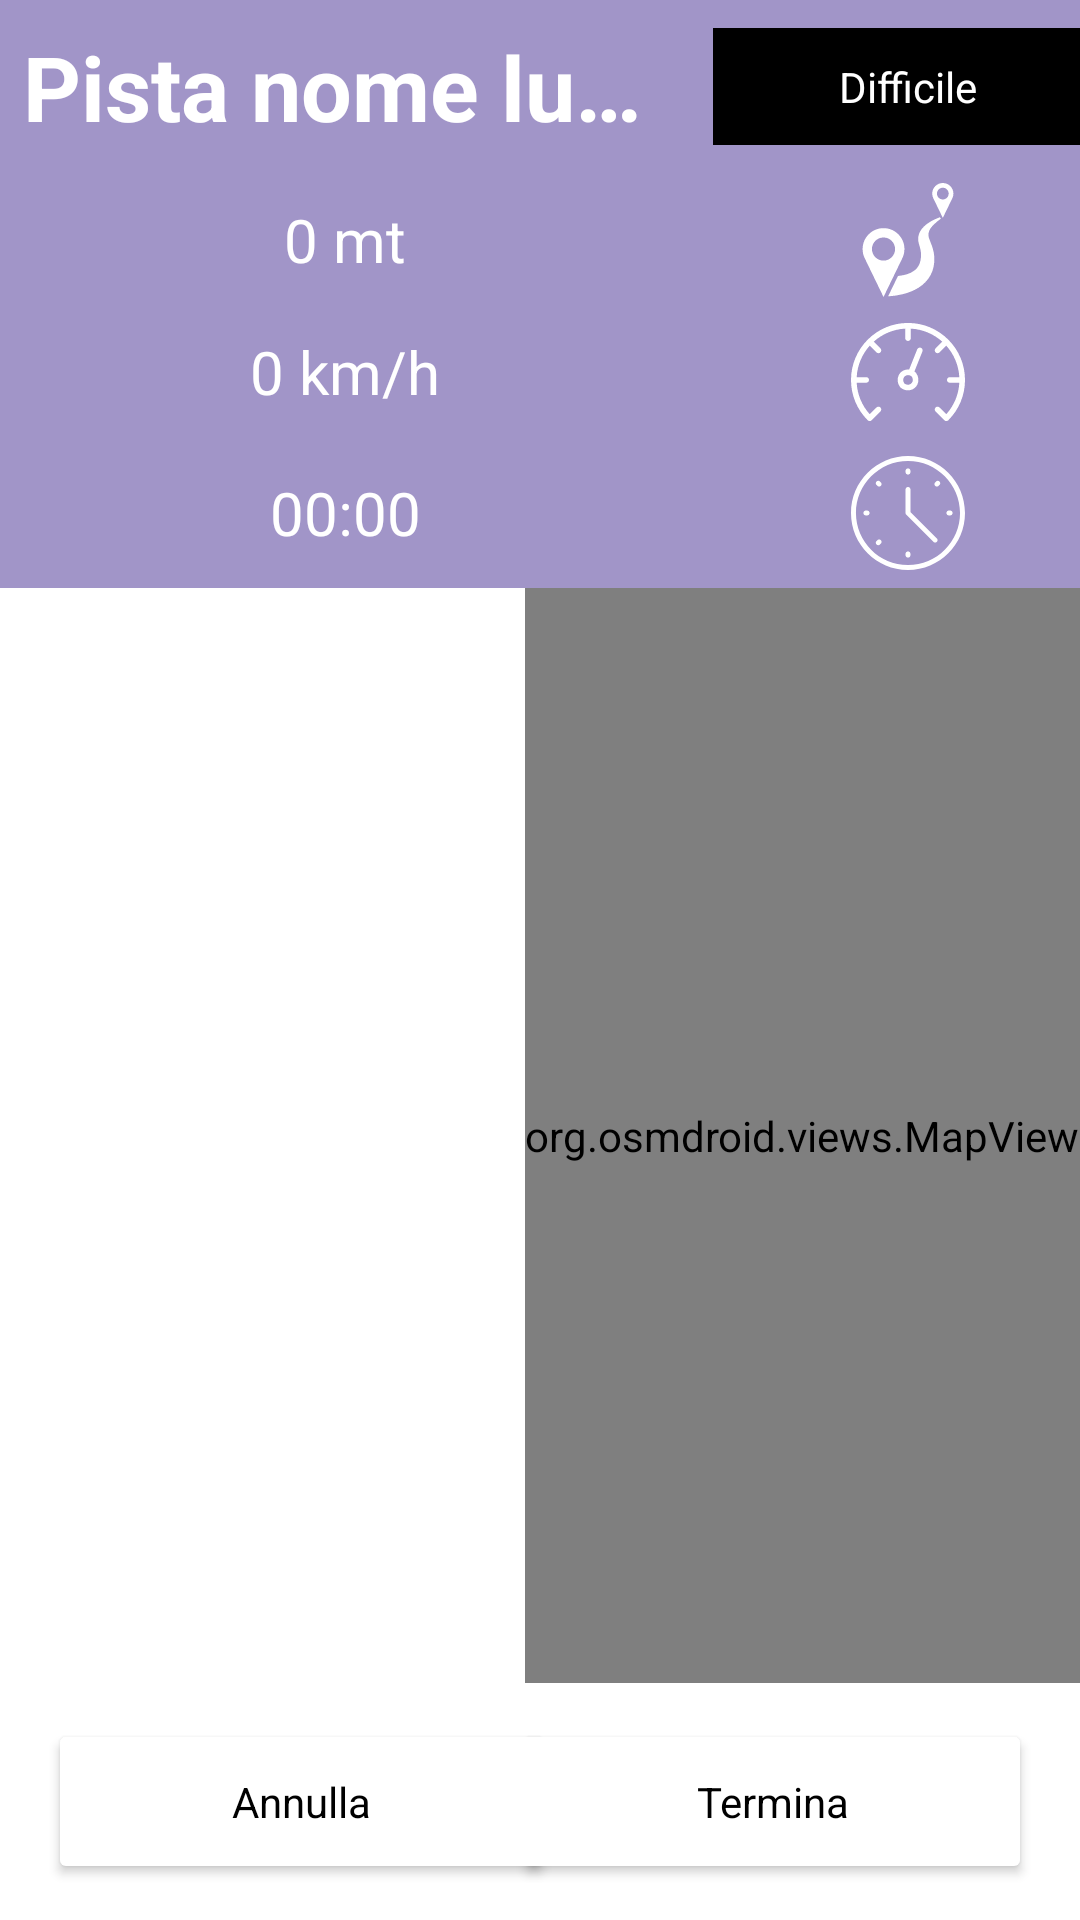

Screen size 1080×1920. Icon name, then its box in pixels as (x1, y1, x2, y2):
Icona della distanza del percorso compiuto: (862, 183, 954, 297)
Icona della durata temporale del percorso: (851, 456, 965, 570)
Icona della velocità di percorrimento della pista: (851, 323, 965, 421)
